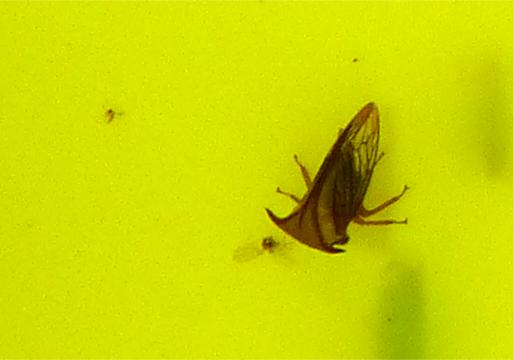Hemiptera: (254, 100, 413, 260)
Nematocera: (100, 100, 119, 125)
